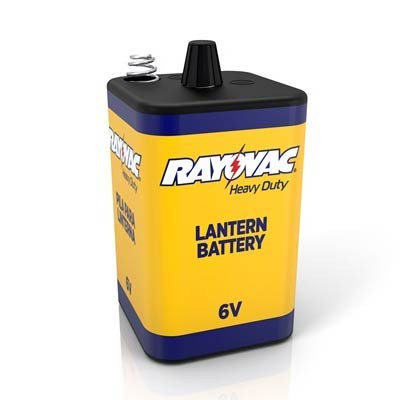6V: (103, 35, 310, 367)
